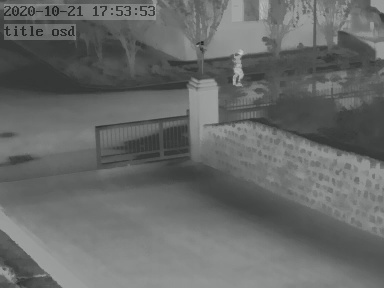person: (232, 49, 244, 84)
